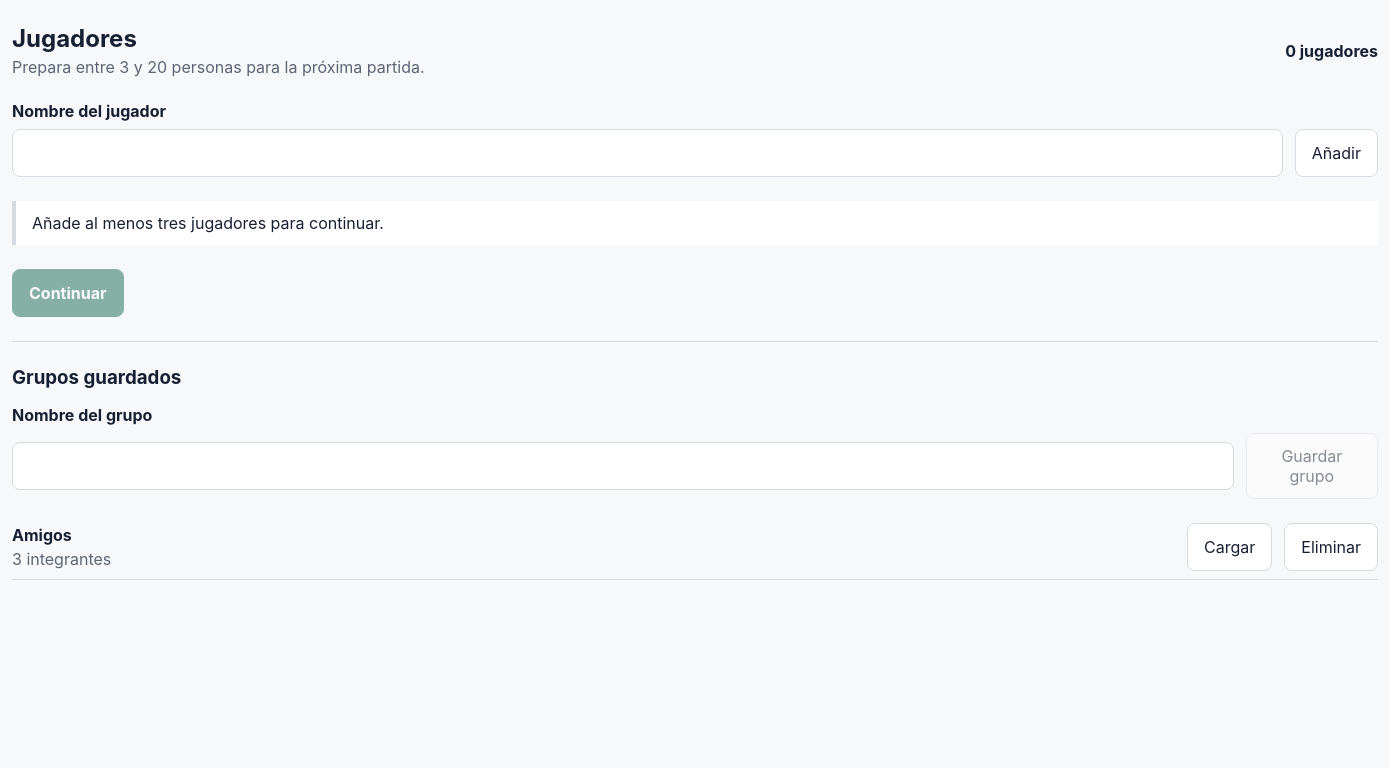
Test case: PlayerGroupsScreen › restores the loaded group name for direct updates
The image size is (1390, 768).
Click the button "Cargar". click: (1230, 547)
box: [1187,523,1272,571]
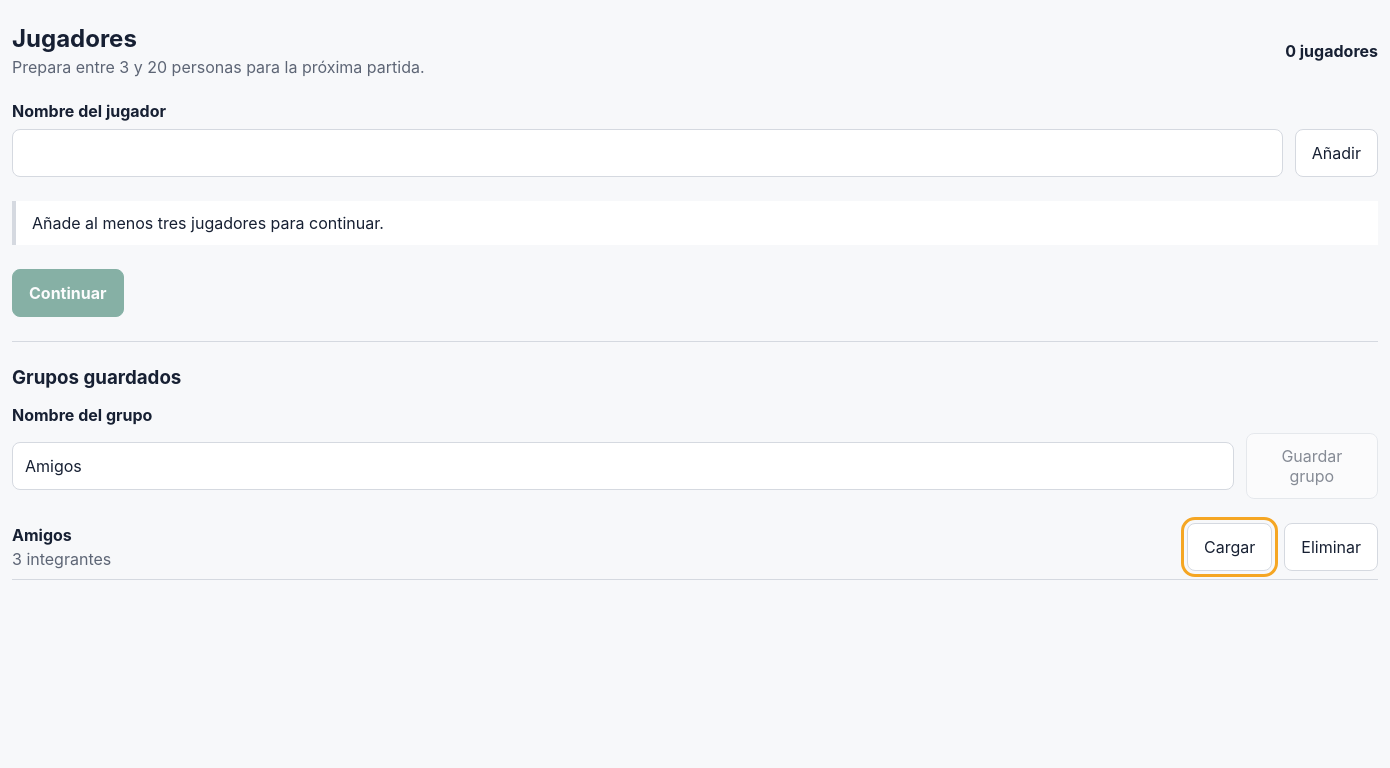
Now the field labelled "Nombre del grupo" holds "Amigos", box [12,442,1234,490]
